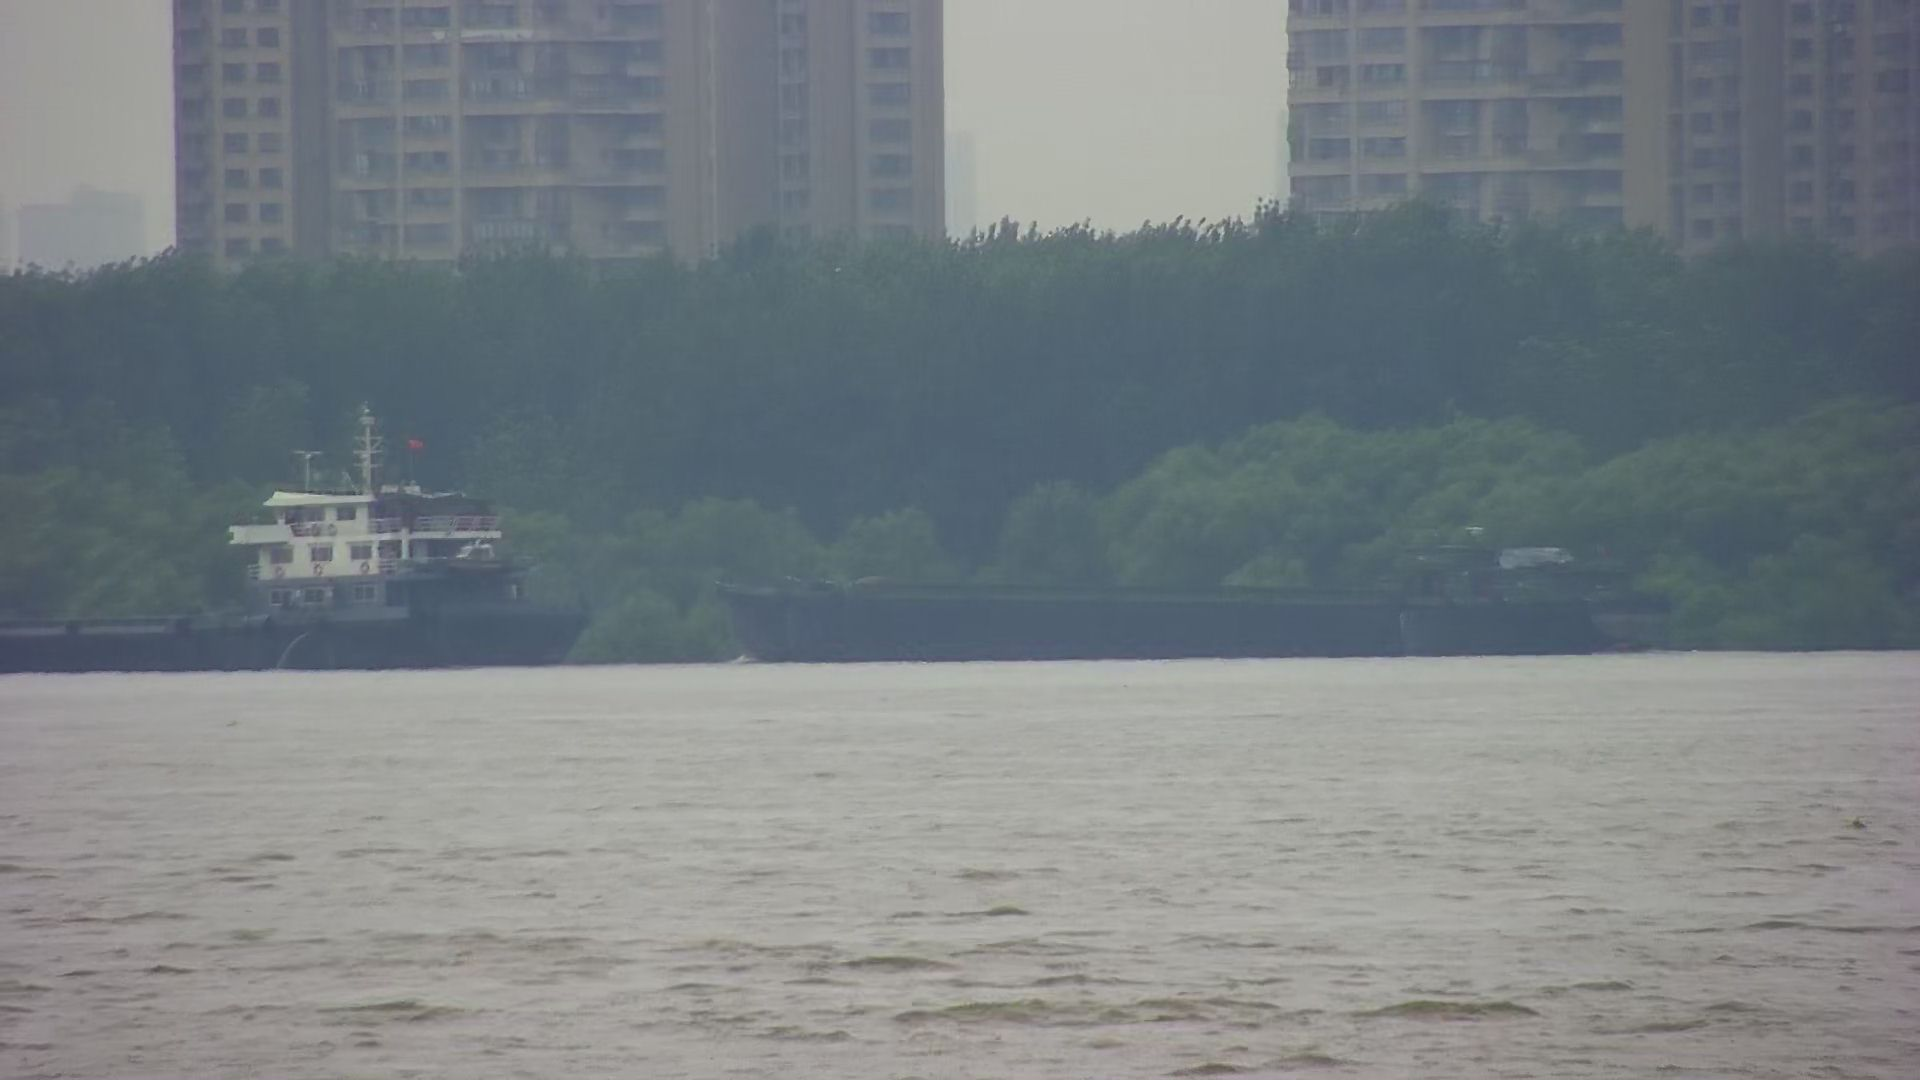ship: (3, 405, 591, 669), (712, 535, 1692, 659)
